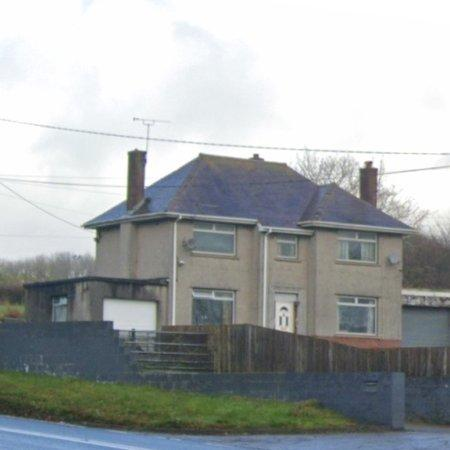chimneys: (127, 149, 147, 210), (361, 161, 379, 207)
